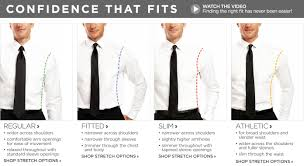F_shirt: (71, 36, 144, 119), (155, 38, 220, 122), (231, 39, 295, 118), (1, 40, 59, 112)
F_tie: (82, 41, 103, 116), (165, 39, 180, 119), (243, 39, 258, 118), (15, 43, 28, 118)
